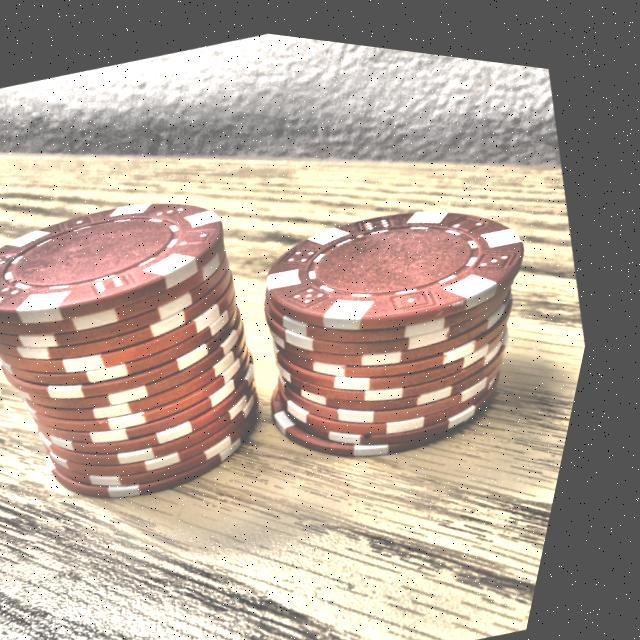Chip: (200, 127, 607, 499), (0, 127, 350, 549)
